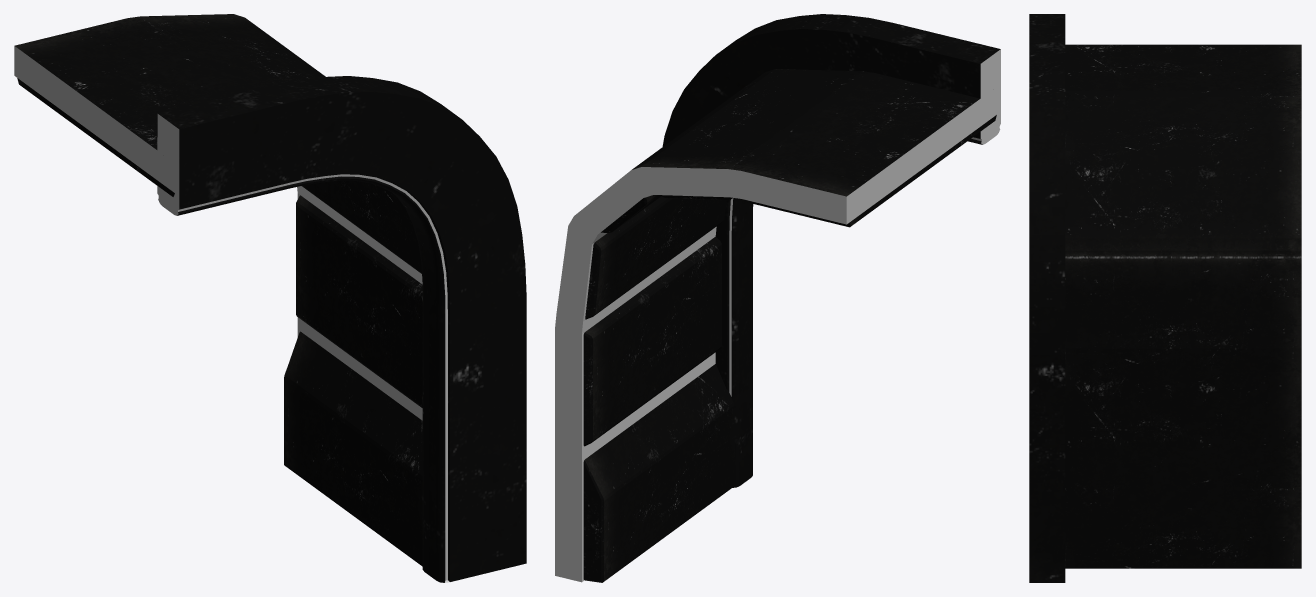
The model's file is SM_TunnelWall_C.FBX.
3 views of the same model, side by side, from view 1: azimuth 30°, elevation 25°; view 2: azimuth 150°, elevation 25°; view 3: azimuth 270°, elevation 25° (orthographic). The views are drawn at different scales.
Visible parts, largest first — view 1: SM_TunnelWall_С; view 2: SM_TunnelWall_С; view 3: SM_TunnelWall_С.
Boxes of the visible parts, x1,y1,x2,y2 form: SM_TunnelWall_С: [14, 14, 526, 582]; SM_TunnelWall_С: [555, 14, 1000, 582]; SM_TunnelWall_С: [1029, 14, 1301, 582].
Size of the model in its own units: 490 by 700 by 403.
